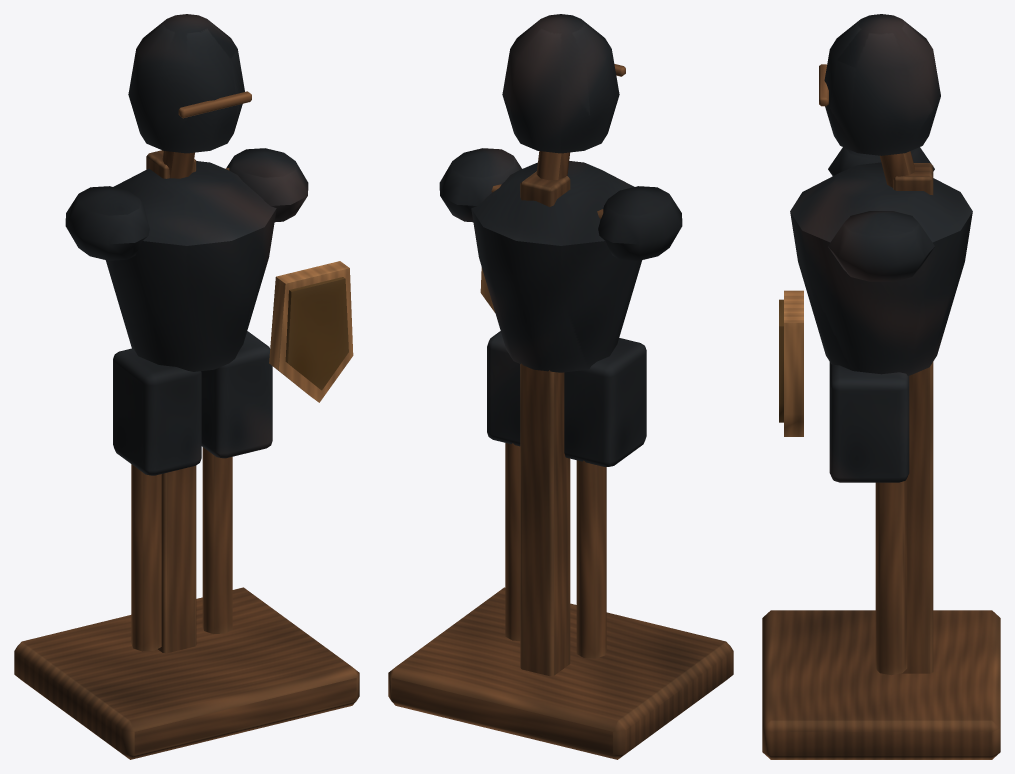
Rendered from Furn_Sword_ArmorStand.fbx.
3 views of the same model, side by side, from view 1: azimuth 30°, elevation 25°; view 2: azimuth 150°, elevation 25°; view 3: azimuth 270°, elevation 25° (orthographic).
Parts seen in each view (by area): view 1: Furn_Sword_ArmorStand; view 2: Furn_Sword_ArmorStand; view 3: Furn_Sword_ArmorStand.
Boxes of the visible parts, x1=… form: Furn_Sword_ArmorStand: x1=14, y1=14, x2=359, y2=759; Furn_Sword_ArmorStand: x1=388, y1=14, x2=733, y2=759; Furn_Sword_ArmorStand: x1=762, y1=14, x2=1000, y2=759.
Size of the model in its own units: 0.7 by 1.9 by 0.6.
4 materials, 4 textured.
